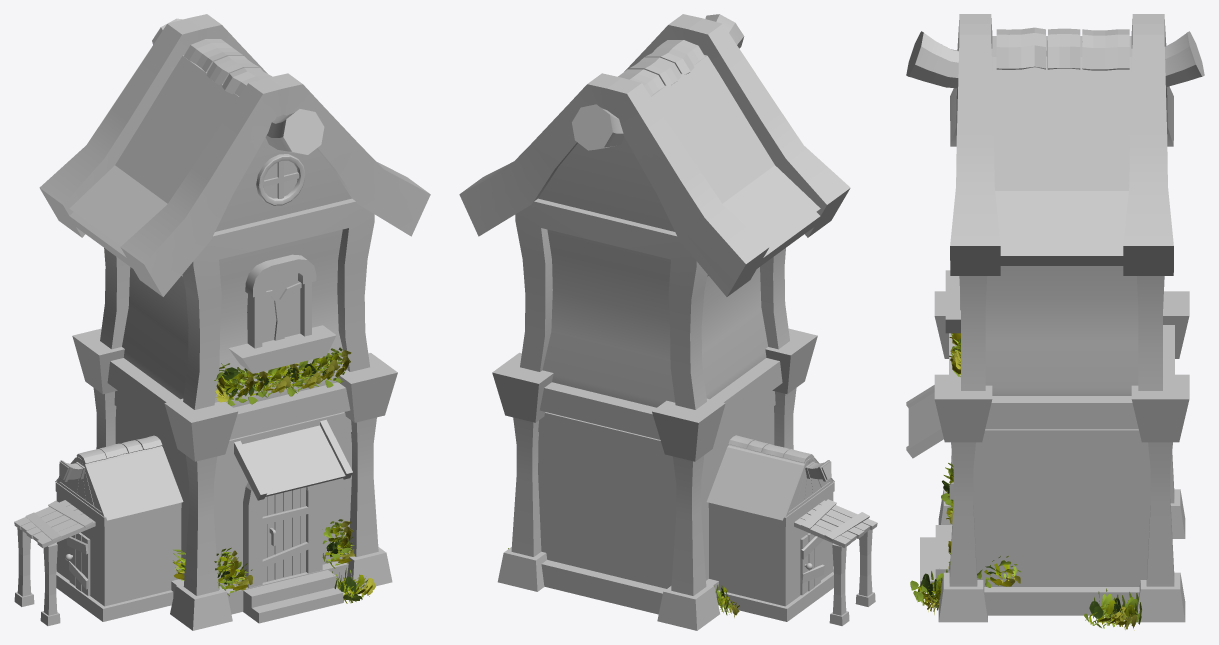
The model's file is Fantasy Cottage.fbx.
The picture shows the model from 3 angles, left to right: view 1: azimuth 30°, elevation 25°; view 2: azimuth 150°, elevation 25°; view 3: azimuth 270°, elevation 25°; orthographic projection. The views are drawn at different scales.
Visible parts, largest first — view 1: Cottage, Leaves; view 2: Cottage; view 3: Cottage, Leaves.
Part boxes in pixels (<box>): Cottage: <box>14,14,430,630</box>; Leaves: <box>173,347,375,603</box>; Cottage: <box>459,14,877,630</box>; Cottage: <box>906,14,1204,622</box>; Leaves: <box>910,333,1141,630</box>.
Size of the model in its own units: 1759 by 2466 by 1212.
